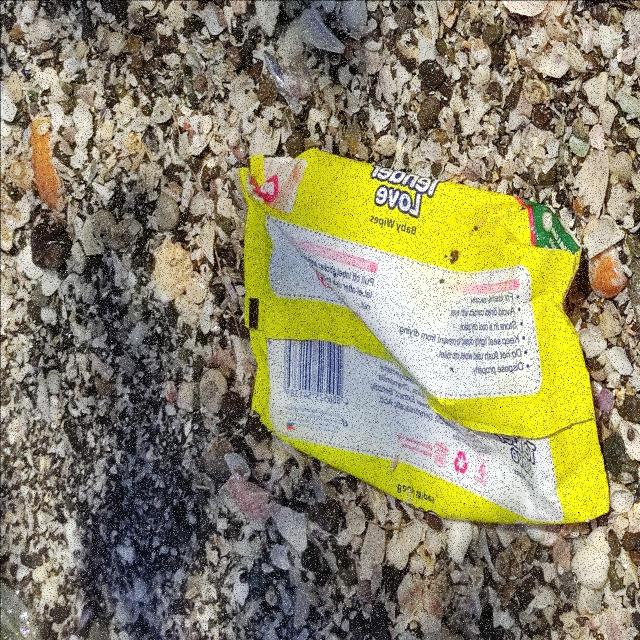plastic_waste: (241, 148, 613, 524)
